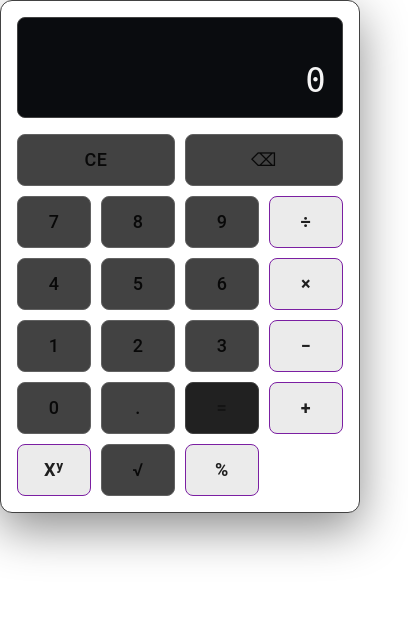
Calculator › shows a generic error for unexpected calculation failures
Click the button "1".
click(54, 346)  # box 17,320 -> 91,372
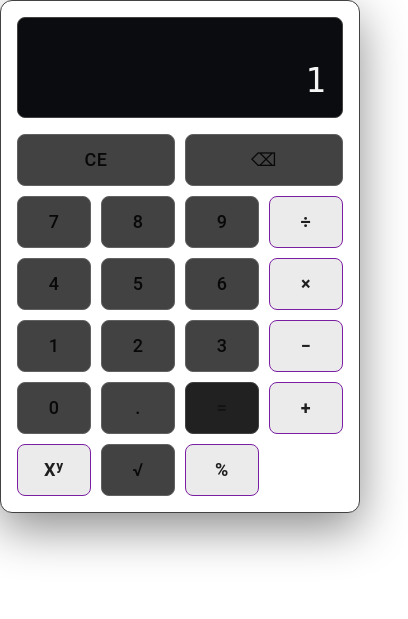
Click the button "+".
click(306, 408)  # box 269,382 -> 343,434
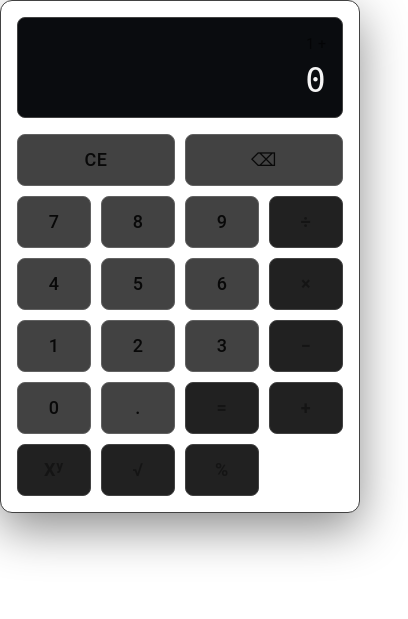
Click the button "2".
click(138, 346)  # box 101,320 -> 175,372
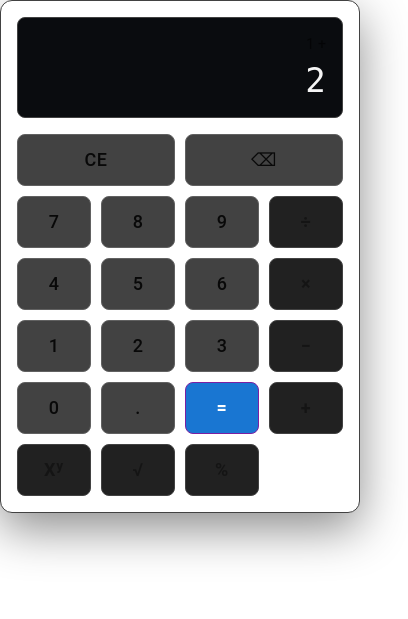
Click the button named "Equals".
click(222, 408)  # box 185,382 -> 259,434
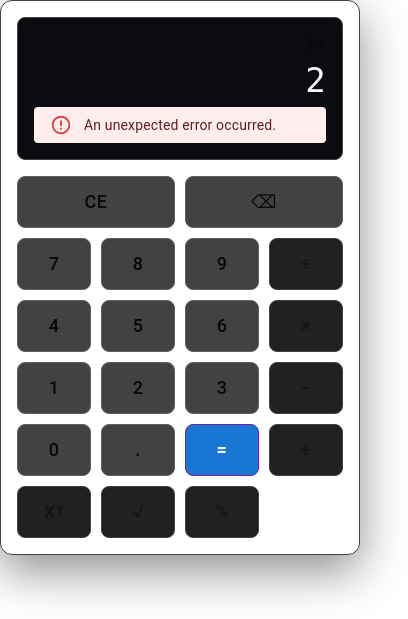
Expected: the message reads "An unexpected error occurred.", 84,117 -> 276,133
